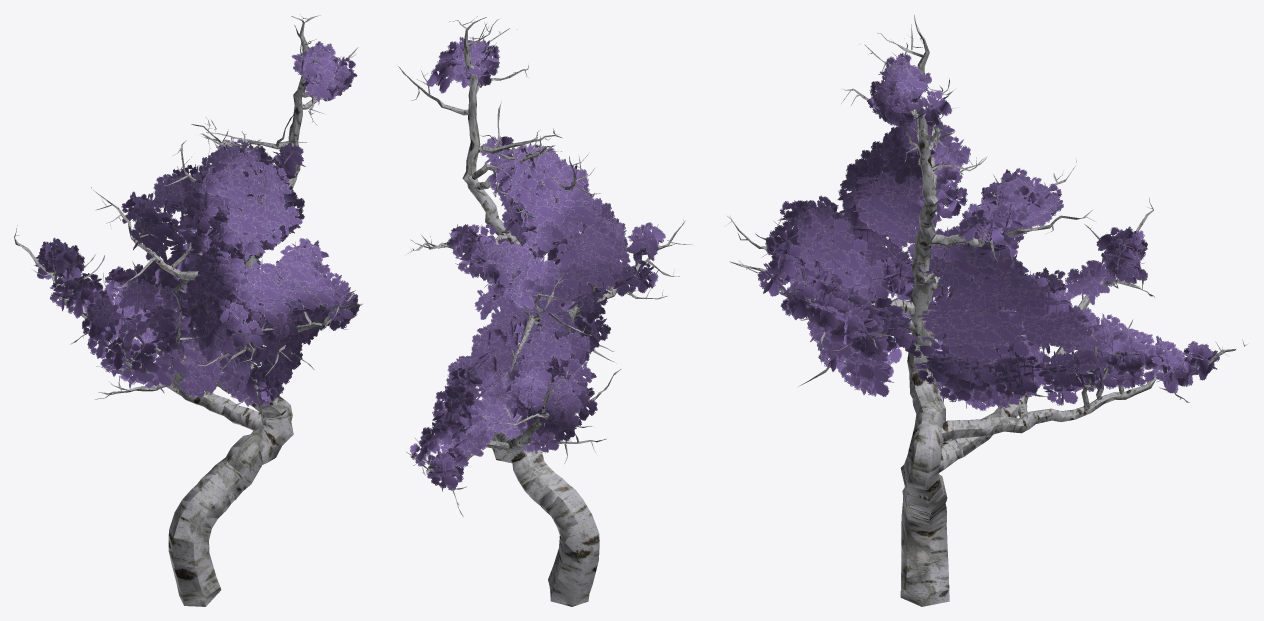
The model's file is tree_w_material 3.fbx.
3 renders of one model, left to right at view 1: azimuth 30°, elevation 25°; view 2: azimuth 150°, elevation 25°; view 3: azimuth 270°, elevation 25°, orthographic. The views are drawn at different scales.
Visible parts, largest first — view 1: geo1; view 2: geo1; view 3: geo1.
Part boxes in pixels (box(x1,y1,x2,y2)): geo1: box(14, 14, 362, 606); geo1: box(398, 16, 692, 606); geo1: box(724, 15, 1247, 606).
Bounding box in the file's own units: 420 × 903 × 677.
